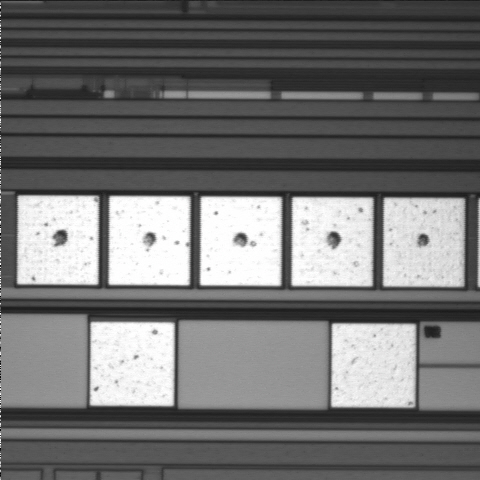pad: (17, 196, 99, 285), (109, 196, 190, 285), (200, 197, 281, 286), (292, 197, 373, 286), (383, 198, 464, 287), (90, 322, 174, 406), (331, 324, 415, 407)
